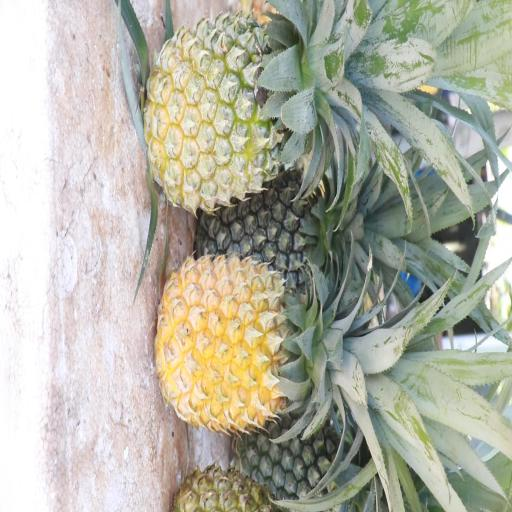------------------------------: (147, 11, 301, 201)
Pineapple - v8 v1: (160, 258, 340, 432)
